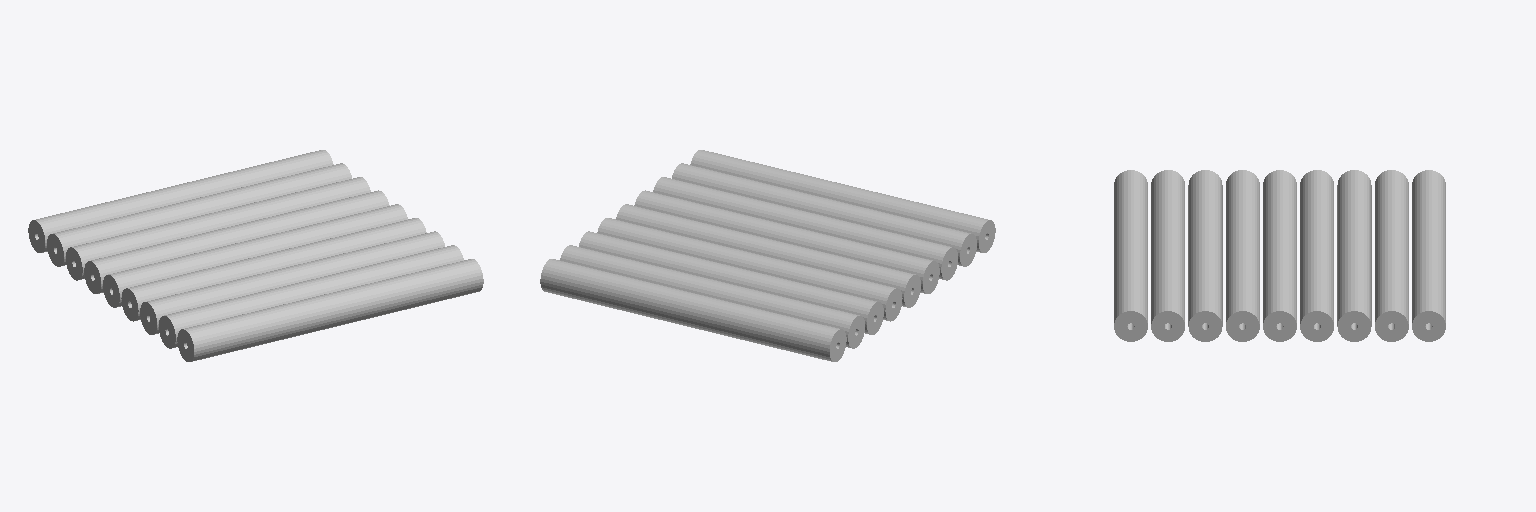
File: conveyor.obj
3 renders of one model, left to right at view 1: azimuth 30°, elevation 25°; view 2: azimuth 150°, elevation 25°; view 3: azimuth 270°, elevation 25°, orthographic.
Visible parts, largest first — view 1: conveyor; view 2: conveyor; view 3: conveyor.
Boxes of the visible parts, x1=… form: conveyor: x1=28, y1=150, x2=483, y2=361; conveyor: x1=540, y1=150, x2=995, y2=361; conveyor: x1=1114, y1=170, x2=1445, y2=341.
Bounding box in the file's own units: 2 × 0.2047 × 1.99.